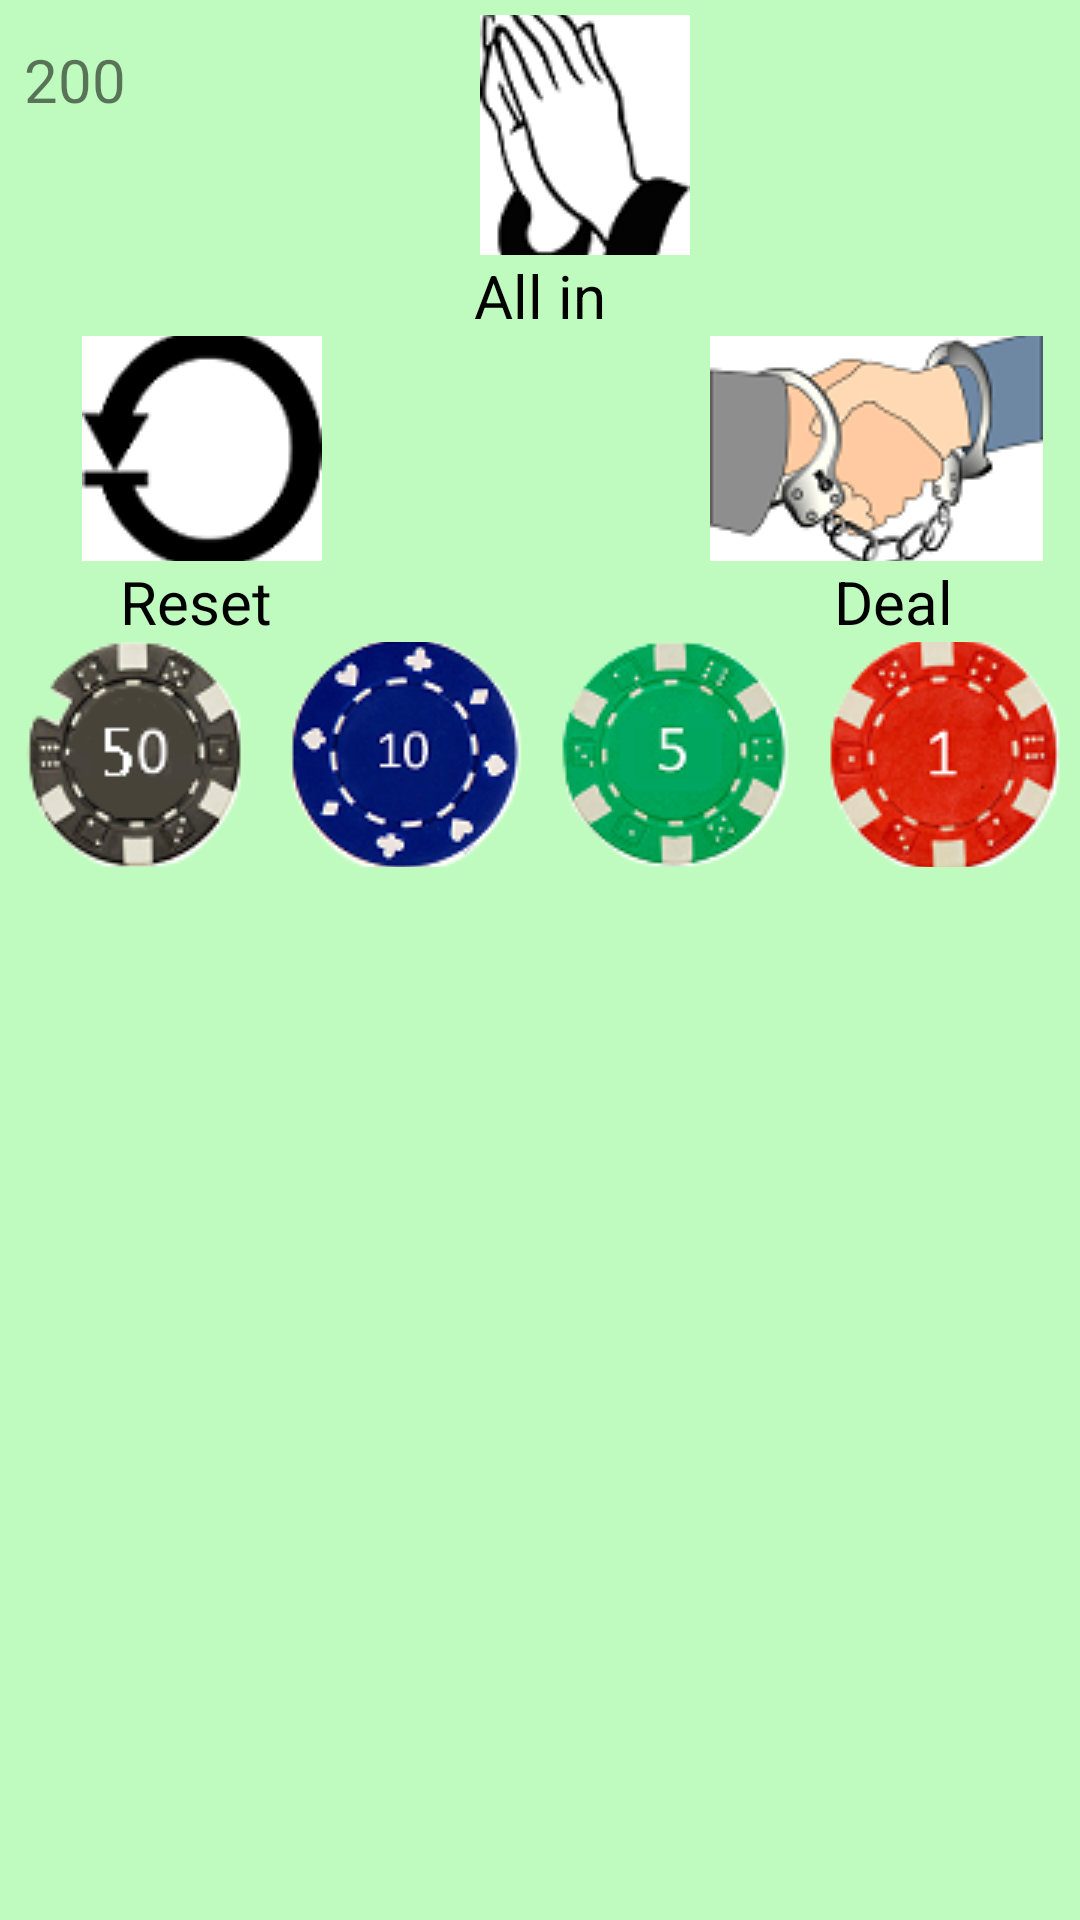

Icons on this 1080*1920 Android screen, each with its box as bbox=(x1, y1, x2, y2):
fifty: bbox=(29, 642, 241, 867)
ten: bbox=(292, 642, 521, 867)
